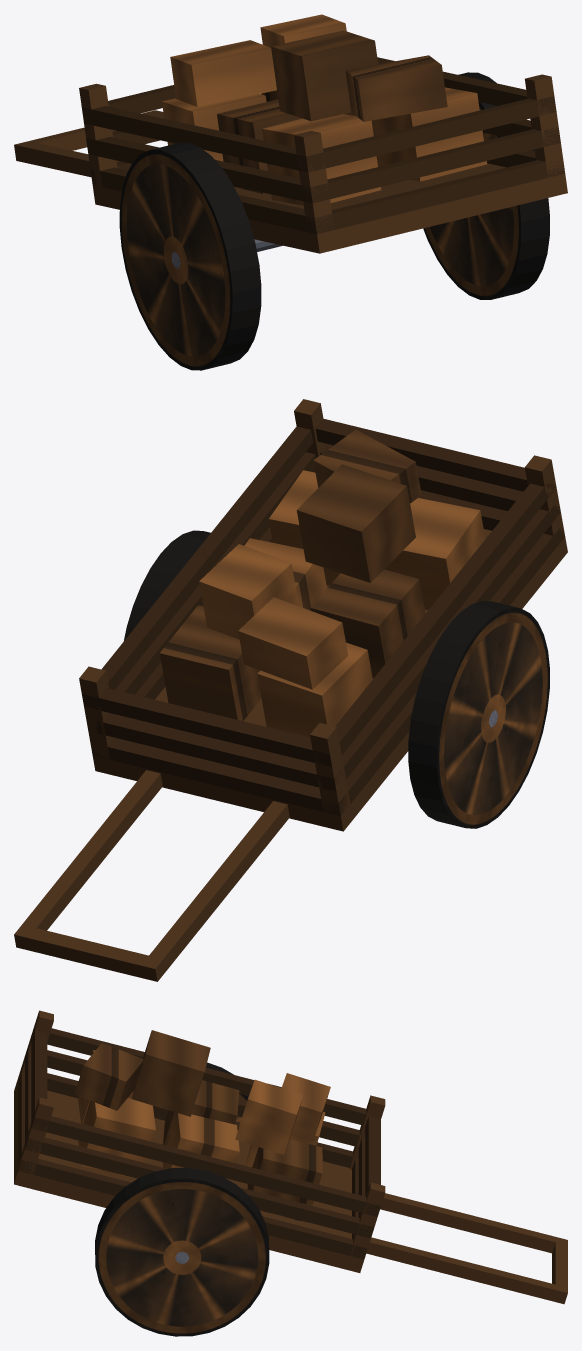
Rendered from holzwagen_t2_blur_voll_world.fbx.
3 renders of one model, top to bottom at view 1: azimuth 30°, elevation 25°; view 2: azimuth 150°, elevation 25°; view 3: azimuth 270°, elevation 25°, orthographic. The views are drawn at different scales.
Visible parts, largest first — view 1: Holzwagen_T2_blur; view 2: Holzwagen_T2_blur; view 3: Holzwagen_T2_blur.
Boxes of the visible parts, left/top/right/bottom form: Holzwagen_T2_blur: left=14, top=14, right=567, bottom=370; Holzwagen_T2_blur: left=14, top=399, right=567, bottom=981; Holzwagen_T2_blur: left=14, top=1010, right=567, bottom=1336.
Bounding box in the file's own units: 110 × 98.6 × 216.
